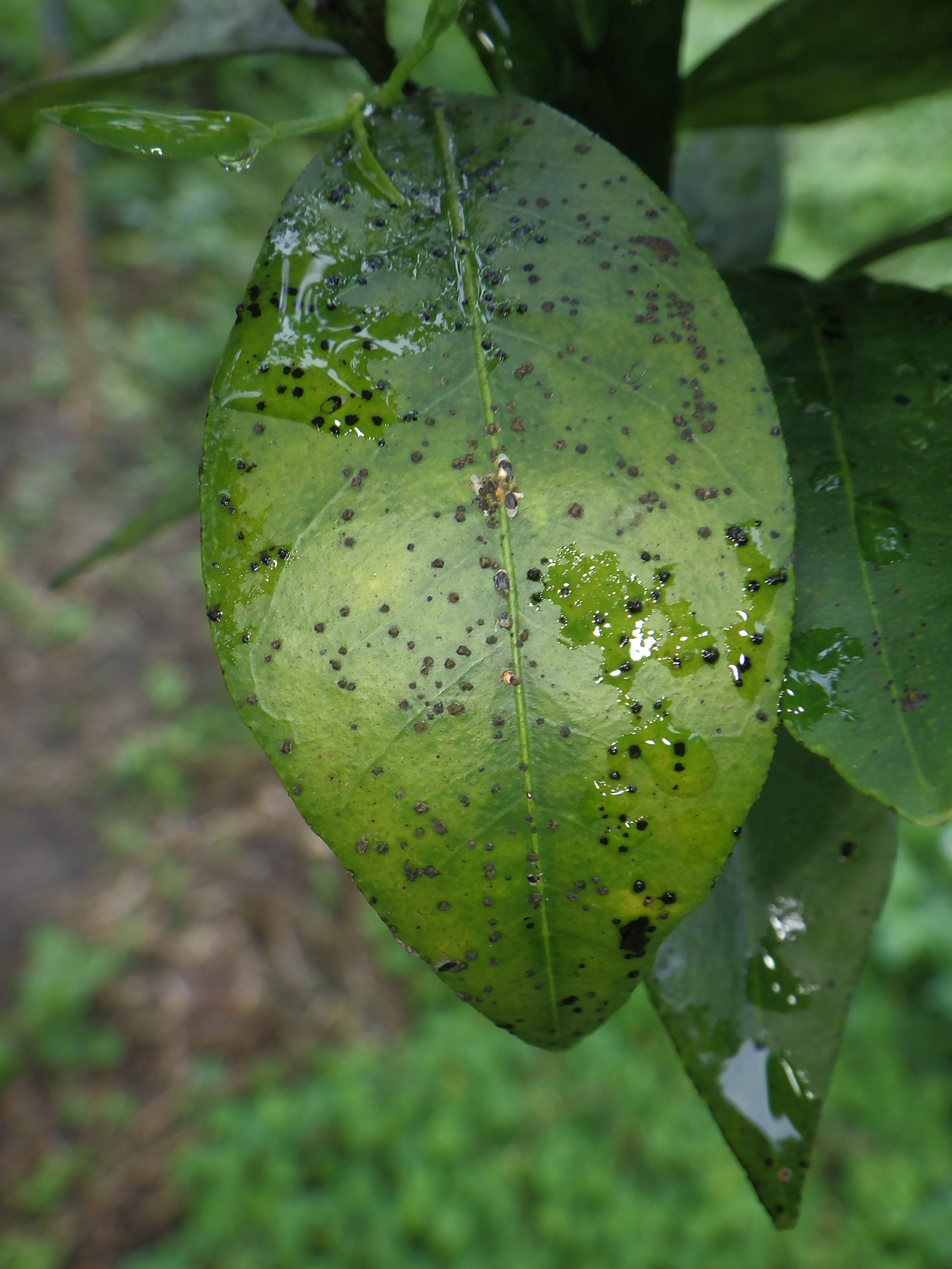Oily_Spot: (199, 94, 793, 1048)
